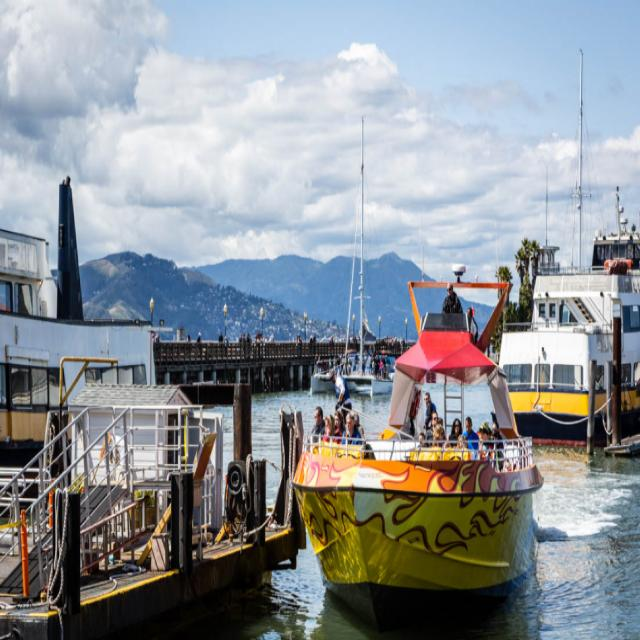passenger ship: (294, 307, 544, 611), (498, 299, 592, 426)
